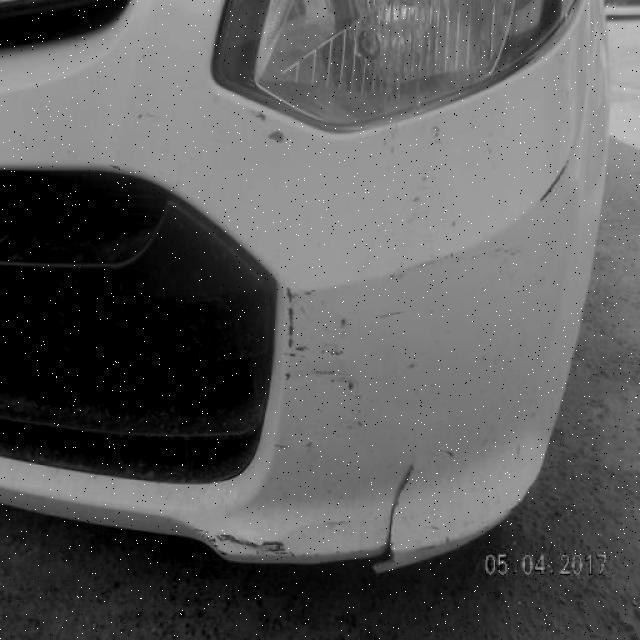car damage: (312, 310, 371, 441), (367, 459, 419, 575), (201, 522, 301, 563), (281, 284, 303, 392), (243, 101, 293, 147), (537, 155, 572, 214)
